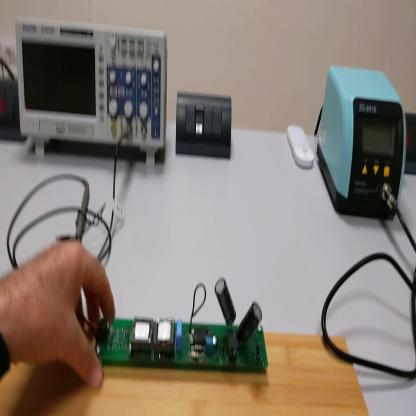hand: (5, 241, 117, 392)
high voltage board: (78, 277, 268, 376)
oscilloscope: (16, 20, 169, 167)
oscilloscope probe tip: (75, 183, 91, 241)
socket: (2, 78, 28, 147), (403, 113, 416, 178)
welder station: (318, 56, 409, 223)
working area: (1, 330, 369, 414)
